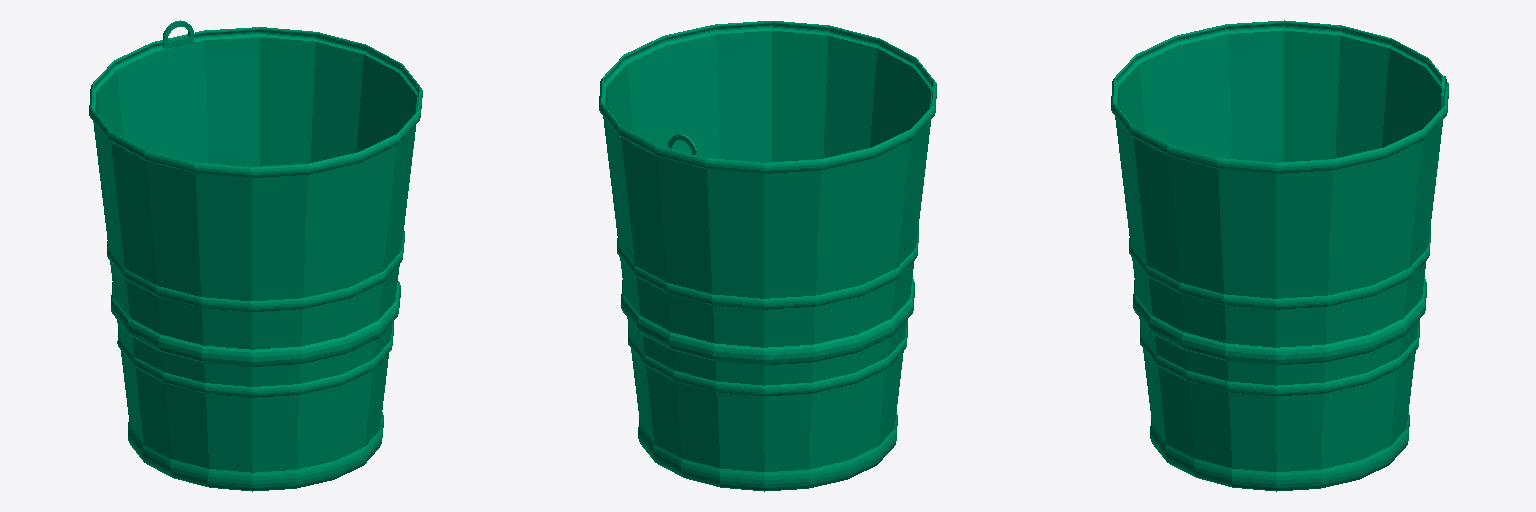
The robot description file, URDF, robot "partnet_8ae5d501-fa9c-4a2c-ba9f-f3c2cc57dbeb-0":
<robot name="partnet_8ae5d501-fa9c-4a2c-ba9f-f3c2cc57dbeb-0">
	<link name="base" />
	<link name="link_0">
		<collision>
			<origin xyz="2.66339554509732e-10 -0.5932410873018391 0.01612054014811294" />
			<geometry>
				<mesh filename="new_objs/102358_link_0_11.obj" />
			</geometry>
		</collision>
	<collision>
			<origin xyz="2.66339554509732e-10 -0.5932410873018391 0.01612054014811294" />
			<geometry>
				<mesh filename="new_objs/102358_link_0_1.obj" />
			</geometry>
		</collision>
	<collision>
			<origin xyz="2.66339554509732e-10 -0.5932410873018391 0.01612054014811294" />
			<geometry>
				<mesh filename="new_objs/102358_link_0_5.obj" />
			</geometry>
		</collision>
	<collision>
			<origin xyz="2.66339554509732e-10 -0.5932410873018391 0.01612054014811294" />
			<geometry>
				<mesh filename="new_objs/102358_link_0_13.obj" />
			</geometry>
		</collision>
	<collision>
			<origin xyz="2.66339554509732e-10 -0.5932410873018391 0.01612054014811294" />
			<geometry>
				<mesh filename="new_objs/102358_link_0_8.obj" />
			</geometry>
		</collision>
	<collision>
			<origin xyz="2.66339554509732e-10 -0.5932410873018391 0.01612054014811294" />
			<geometry>
				<mesh filename="new_objs/102358_link_0_15.obj" />
			</geometry>
		</collision>
	<collision>
			<origin xyz="2.66339554509732e-10 -0.5932410873018391 0.01612054014811294" />
			<geometry>
				<mesh filename="new_objs/102358_link_0_4.obj" />
			</geometry>
		</collision>
	<collision>
			<origin xyz="2.66339554509732e-10 -0.5932410873018391 0.01612054014811294" />
			<geometry>
				<mesh filename="new_objs/102358_link_0_3.obj" />
			</geometry>
		</collision>
	<collision>
			<origin xyz="2.66339554509732e-10 -0.5932410873018391 0.01612054014811294" />
			<geometry>
				<mesh filename="new_objs/102358_link_0_6.obj" />
			</geometry>
		</collision>
	<collision>
			<origin xyz="2.66339554509732e-10 -0.5932410873018391 0.01612054014811294" />
			<geometry>
				<mesh filename="new_objs/102358_link_0_14.obj" />
			</geometry>
		</collision>
	<collision>
			<origin xyz="2.66339554509732e-10 -0.5932410873018391 0.01612054014811294" />
			<geometry>
				<mesh filename="new_objs/102358_link_0_0.obj" />
			</geometry>
		</collision>
	<collision>
			<origin xyz="2.66339554509732e-10 -0.5932410873018391 0.01612054014811294" />
			<geometry>
				<mesh filename="new_objs/102358_link_0_17.obj" />
			</geometry>
		</collision>
	<collision>
			<origin xyz="2.66339554509732e-10 -0.5932410873018391 0.01612054014811294" />
			<geometry>
				<mesh filename="new_objs/102358_link_0_16.obj" />
			</geometry>
		</collision>
	<collision>
			<origin xyz="2.66339554509732e-10 -0.5932410873018391 0.01612054014811294" />
			<geometry>
				<mesh filename="new_objs/102358_link_0_10.obj" />
			</geometry>
		</collision>
	<collision>
			<origin xyz="2.66339554509732e-10 -0.5932410873018391 0.01612054014811294" />
			<geometry>
				<mesh filename="new_objs/102358_link_0_7.obj" />
			</geometry>
		</collision>
	<collision>
			<origin xyz="2.66339554509732e-10 -0.5932410873018391 0.01612054014811294" />
			<geometry>
				<mesh filename="new_objs/102358_link_0_9.obj" />
			</geometry>
		</collision>
	<collision>
			<origin xyz="2.66339554509732e-10 -0.5932410873018391 0.01612054014811294" />
			<geometry>
				<mesh filename="new_objs/102358_link_0_2.obj" />
			</geometry>
		</collision>
	<collision>
			<origin xyz="2.66339554509732e-10 -0.5932410873018391 0.01612054014811294" />
			<geometry>
				<mesh filename="new_objs/102358_link_0_12.obj" />
			</geometry>
		</collision>
	<visual name="handle-part[&quot;id]">
			<origin xyz="2.66339554509732e-10 -0.5932410873018391 0.01612054014811294" />
			<geometry>
				<mesh filename="textured_objs/original-1.obj" />
			</geometry>
		</visual>
		</link>
	<joint name="joint_0" type="revolute">
		<origin xyz="-2.66339554509732e-10 0.5932410873018391 -0.01612054014811294" />
		<axis xyz="-1 -0.005 0" />
		<child link="link_0" />
		<parent link="link_1" />
		<limit lower="-0.025132741228718343" upper="3.078760800517997" />
	</joint>
	<link name="link_1">
		<collision>
			<origin xyz="0 0 0" />
			<geometry>
				<mesh filename="new_objs/102358_link_1_23.obj" />
			</geometry>
		</collision>
		<collision>
			<origin xyz="0 0 0" />
			<geometry>
				<mesh filename="new_objs/102358_link_1_38.obj" />
			</geometry>
		</collision>
		<collision>
			<origin xyz="0 0 0" />
			<geometry>
				<mesh filename="new_objs/102358_link_1_11.obj" />
			</geometry>
		</collision>
		<collision>
			<origin xyz="0 0 0" />
			<geometry>
				<mesh filename="new_objs/102358_link_1_42.obj" />
			</geometry>
		</collision>
		<collision>
			<origin xyz="0 0 0" />
			<geometry>
				<mesh filename="new_objs/102358_link_1_47.obj" />
			</geometry>
		</collision>
		<collision>
			<origin xyz="0 0 0" />
			<geometry>
				<mesh filename="new_objs/102358_link_1_14.obj" />
			</geometry>
		</collision>
		<collision>
			<origin xyz="0 0 0" />
			<geometry>
				<mesh filename="new_objs/102358_link_1_2.obj" />
			</geometry>
		</collision>
		<collision>
			<origin xyz="0 0 0" />
			<geometry>
				<mesh filename="new_objs/102358_link_1_7.obj" />
			</geometry>
		</collision>
		<collision>
			<origin xyz="0 0 0" />
			<geometry>
				<mesh filename="new_objs/102358_link_1_39.obj" />
			</geometry>
		</collision>
		<collision>
			<origin xyz="0 0 0" />
			<geometry>
				<mesh filename="new_objs/102358_link_1_4.obj" />
			</geometry>
		</collision>
		<collision>
			<origin xyz="0 0 0" />
			<geometry>
				<mesh filename="new_objs/102358_link_1_43.obj" />
			</geometry>
		</collision>
		<collision>
			<origin xyz="0 0 0" />
			<geometry>
				<mesh filename="new_objs/102358_link_1_32.obj" />
			</geometry>
		</collision>
		<collision>
			<origin xyz="0 0 0" />
			<geometry>
				<mesh filename="new_objs/102358_link_1_29.obj" />
			</geometry>
		</collision>
		<collision>
			<origin xyz="0 0 0" />
			<geometry>
				<mesh filename="new_objs/102358_link_1_21.obj" />
			</geometry>
		</collision>
		<collision>
			<origin xyz="0 0 0" />
			<geometry>
				<mesh filename="new_objs/102358_link_1_1.obj" />
			</geometry>
		</collision>
		<collision>
			<origin xyz="0 0 0" />
			<geometry>
				<mesh filename="new_objs/102358_link_1_22.obj" />
			</geometry>
		</collision>
		<collision>
			<origin xyz="0 0 0" />
			<geometry>
				<mesh filename="new_objs/102358_link_1_31.obj" />
			</geometry>
		</collision>
		<collision>
			<origin xyz="0 0 0" />
			<geometry>
				<mesh filename="new_objs/102358_link_1_25.obj" />
			</geometry>
		</collision>
		<collision>
			<origin xyz="0 0 0" />
			<geometry>
				<mesh filename="new_objs/102358_link_1_45.obj" />
			</geometry>
		</collision>
		<collision>
			<origin xyz="0 0 0" />
			<geometry>
				<mesh filename="new_objs/102358_link_1_26.obj" />
			</geometry>
		</collision>
		<collision>
			<origin xyz="0 0 0" />
			<geometry>
				<mesh filename="new_objs/102358_link_1_36.obj" />
			</geometry>
		</collision>
		<collision>
			<origin xyz="0 0 0" />
			<geometry>
				<mesh filename="new_objs/102358_link_1_35.obj" />
			</geometry>
		</collision>
		<collision>
			<origin xyz="0 0 0" />
			<geometry>
				<mesh filename="new_objs/102358_link_1_17.obj" />
			</geometry>
		</collision>
		<collision>
			<origin xyz="0 0 0" />
			<geometry>
				<mesh filename="new_objs/102358_link_1_46.obj" />
			</geometry>
		</collision>
		<collision>
			<origin xyz="0 0 0" />
			<geometry>
				<mesh filename="new_objs/102358_link_1_20.obj" />
			</geometry>
		</collision>
		<collision>
			<origin xyz="0 0 0" />
			<geometry>
				<mesh filename="new_objs/102358_link_1_15.obj" />
			</geometry>
		</collision>
		<collision>
			<origin xyz="0 0 0" />
			<geometry>
				<mesh filename="new_objs/102358_link_1_41.obj" />
			</geometry>
		</collision>
		<collision>
			<origin xyz="0 0 0" />
			<geometry>
				<mesh filename="new_objs/102358_link_1_0.obj" />
			</geometry>
		</collision>
		<collision>
			<origin xyz="0 0 0" />
			<geometry>
				<mesh filename="new_objs/102358_link_1_9.obj" />
			</geometry>
		</collision>
		<collision>
			<origin xyz="0 0 0" />
			<geometry>
				<mesh filename="new_objs/102358_link_1_33.obj" />
			</geometry>
		</collision>
		<collision>
			<origin xyz="0 0 0" />
			<geometry>
				<mesh filename="new_objs/102358_link_1_6.obj" />
			</geometry>
		</collision>
		<collision>
			<origin xyz="0 0 0" />
			<geometry>
				<mesh filename="new_objs/102358_link_1_37.obj" />
			</geometry>
		</collision>
		<collision>
			<origin xyz="0 0 0" />
			<geometry>
				<mesh filename="new_objs/102358_link_1_5.obj" />
			</geometry>
		</collision>
		<collision>
			<origin xyz="0 0 0" />
			<geometry>
				<mesh filename="new_objs/102358_link_1_16.obj" />
			</geometry>
		</collision>
		<collision>
			<origin xyz="0 0 0" />
			<geometry>
				<mesh filename="new_objs/102358_link_1_8.obj" />
			</geometry>
		</collision>
		<collision>
			<origin xyz="0 0 0" />
			<geometry>
				<mesh filename="new_objs/102358_link_1_28.obj" />
			</geometry>
		</collision>
		<collision>
			<origin xyz="0 0 0" />
			<geometry>
				<mesh filename="new_objs/102358_link_1_3.obj" />
			</geometry>
		</collision>
		<collision>
			<origin xyz="0 0 0" />
			<geometry>
				<mesh filename="new_objs/102358_link_1_13.obj" />
			</geometry>
		</collision>
		<collision>
			<origin xyz="0 0 0" />
			<geometry>
				<mesh filename="new_objs/102358_link_1_44.obj" />
			</geometry>
		</collision>
		<collision>
			<origin xyz="0 0 0" />
			<geometry>
				<mesh filename="new_objs/102358_link_1_18.obj" />
			</geometry>
		</collision>
		<collision>
			<origin xyz="0 0 0" />
			<geometry>
				<mesh filename="new_objs/102358_link_1_30.obj" />
			</geometry>
		</collision>
		<collision>
			<origin xyz="0 0 0" />
			<geometry>
				<mesh filename="new_objs/102358_link_1_27.obj" />
			</geometry>
		</collision>
		<collision>
			<origin xyz="0 0 0" />
			<geometry>
				<mesh filename="new_objs/102358_link_1_10.obj" />
			</geometry>
		</collision>
		<collision>
			<origin xyz="0 0 0" />
			<geometry>
				<mesh filename="new_objs/102358_link_1_12.obj" />
			</geometry>
		</collision>
		<collision>
			<origin xyz="0 0 0" />
			<geometry>
				<mesh filename="new_objs/102358_link_1_24.obj" />
			</geometry>
		</collision>
		<collision>
			<origin xyz="0 0 0" />
			<geometry>
				<mesh filename="new_objs/102358_link_1_34.obj" />
			</geometry>
		</collision>
		<collision>
			<origin xyz="0 0 0" />
			<geometry>
				<mesh filename="new_objs/102358_link_1_19.obj" />
			</geometry>
		</collision>
		<collision>
			<origin xyz="0 0 0" />
			<geometry>
				<mesh filename="new_objs/102358_link_1_40.obj" />
			</geometry>
		</collision>
		<visual name="base_body-part[&quot;id]">
			<origin xyz="0 0 0" />
			<geometry>
				<mesh filename="textured_objs/original-4.obj" />
			</geometry>
		</visual>
		<visual name="base_body-part[&quot;id]">
			<origin xyz="0 0 0" />
			<geometry>
				<mesh filename="textured_objs/original-3.obj" />
			</geometry>
		</visual>
		<visual name="base_body-part[&quot;id]">
			<origin xyz="0 0 0" />
			<geometry>
				<mesh filename="textured_objs/original-9.obj" />
			</geometry>
		</visual>
		<visual name="base_body-part[&quot;id]">
			<origin xyz="0 0 0" />
			<geometry>
				<mesh filename="textured_objs/original-6.obj" />
			</geometry>
		</visual>
		<visual name="base_body-part[&quot;id]">
			<origin xyz="0 0 0" />
			<geometry>
				<mesh filename="textured_objs/original-7.obj" />
			</geometry>
		</visual>
		<visual name="base_body-part[&quot;id]">
			<origin xyz="0 0 0" />
			<geometry>
				<mesh filename="textured_objs/original-10.obj" />
			</geometry>
		</visual>
		</link>
	<joint name="joint_1" type="fixed">
		<origin rpy="1.570796326794897 0 -1.570796326794897" xyz="0 0 0" />
		<child link="link_1" />
		<parent link="base" />
	</joint>
</robot>

--- Facts derived from the render (not from the file) ---
3 views of the same robot in one strip: view 1: azimuth 30°, elevation 25°; view 2: azimuth 150°, elevation 25°; view 3: azimuth 270°, elevation 25° (orthographic).
Robot: partnet_8ae5d501-fa9c-4a2c-ba9f-f3c2cc57dbeb-0 — 3 links, 2 joints (1 revolute, 1 fixed); root link base; default pose: all joints at 0.
Visible links, largest first — view 1: link_1; view 2: link_1; view 3: link_1.
Boxes of the visible links, x1=… form: link_1: x1=89, y1=20, x2=422, y2=491; link_1: x1=599, y1=21, x2=936, y2=491; link_1: x1=1111, y1=20, x2=1448, y2=491.
Bounding box of the posed robot: 1.2 × 1.18 × 1.4 m (x, y, z).
Meshes: 7 distinct files referenced, 4 mesh visuals loaded (4 OBJ); not drawn: 3 (reference not matched to a file when rendering).
